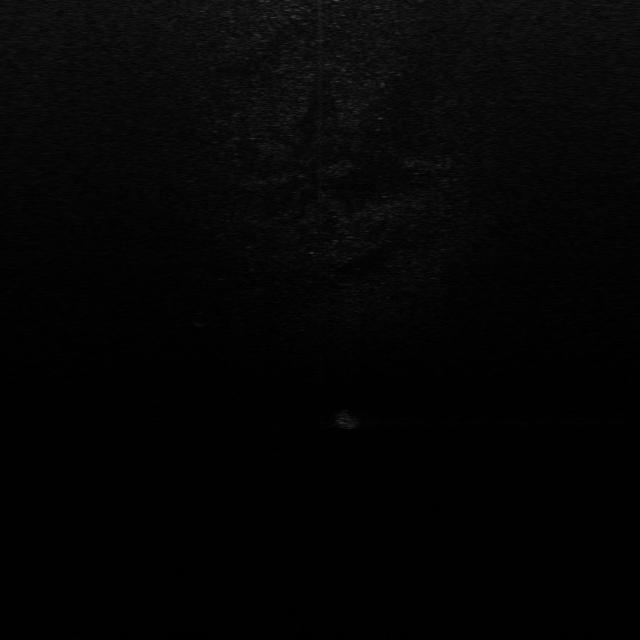ball: (334, 408, 364, 429)
circle cage: (190, 308, 214, 328)
